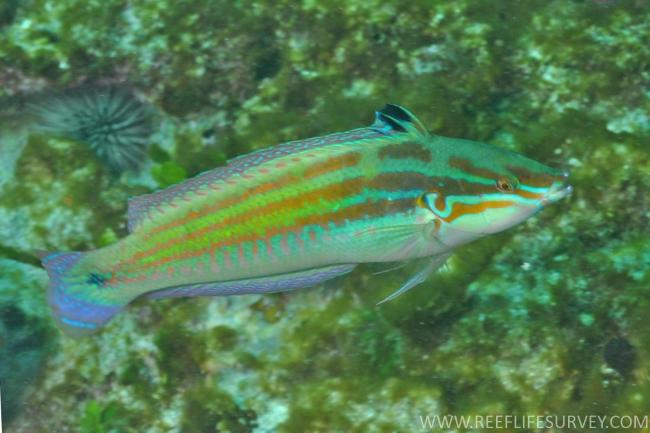fish: (43, 103, 571, 331)
